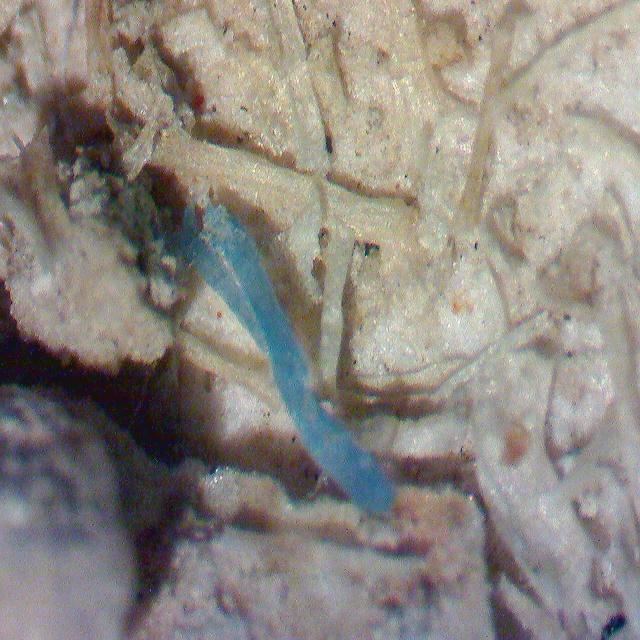microplastic: (176, 206, 394, 510)
